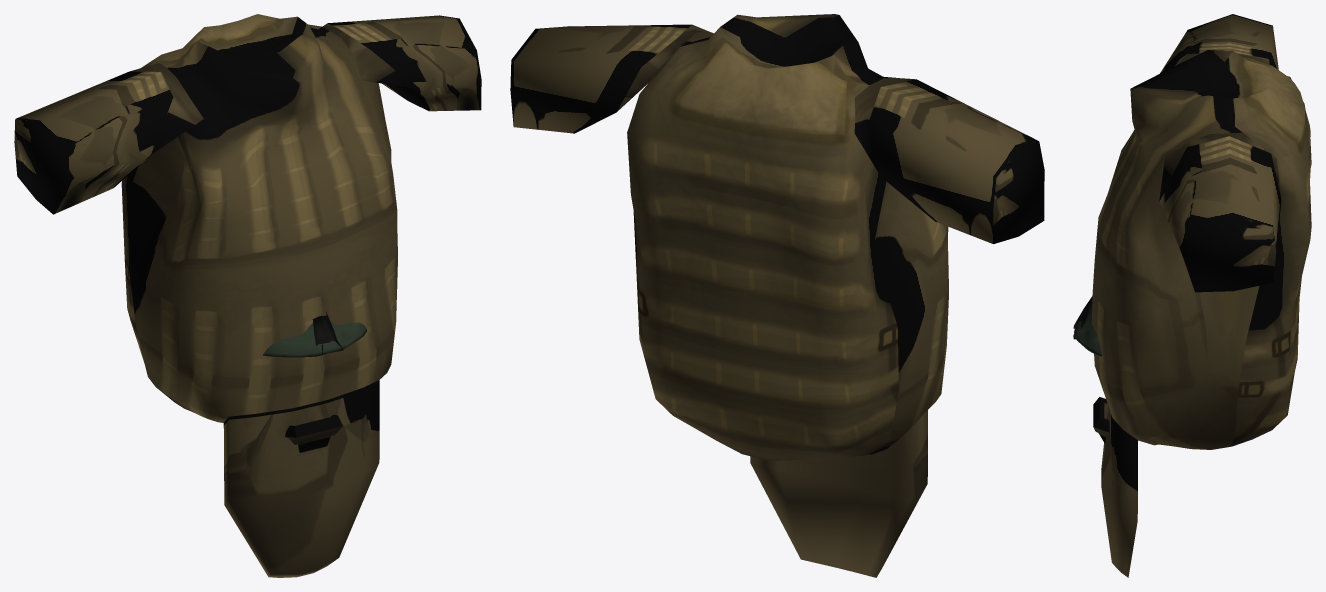
The model's file is f_PASGT_Helmet.fbx.
3 views of the same model, side by side, from view 1: azimuth 30°, elevation 25°; view 2: azimuth 150°, elevation 25°; view 3: azimuth 270°, elevation 25° (orthographic). The views are drawn at different scales.
Visible parts, largest first — view 1: INTERCEPTOR, PASGT, TPASGT; view 2: INTERCEPTOR; view 3: INTERCEPTOR, PASGT, TPASGT.
Part boxes in pixels (<box>): INTERCEPTOR: <box>14,14,481,577</box>; PASGT: <box>263,321,366,453</box>; TPASGT: <box>285,311,343,455</box>; INTERCEPTOR: <box>510,14,1044,577</box>; INTERCEPTOR: <box>1091,14,1311,577</box>; PASGT: <box>1074,308,1109,443</box>; TPASGT: <box>1073,296,1109,446</box>.
Size of the model in its own units: 0.2122 by 0.4841 by 0.4285.
